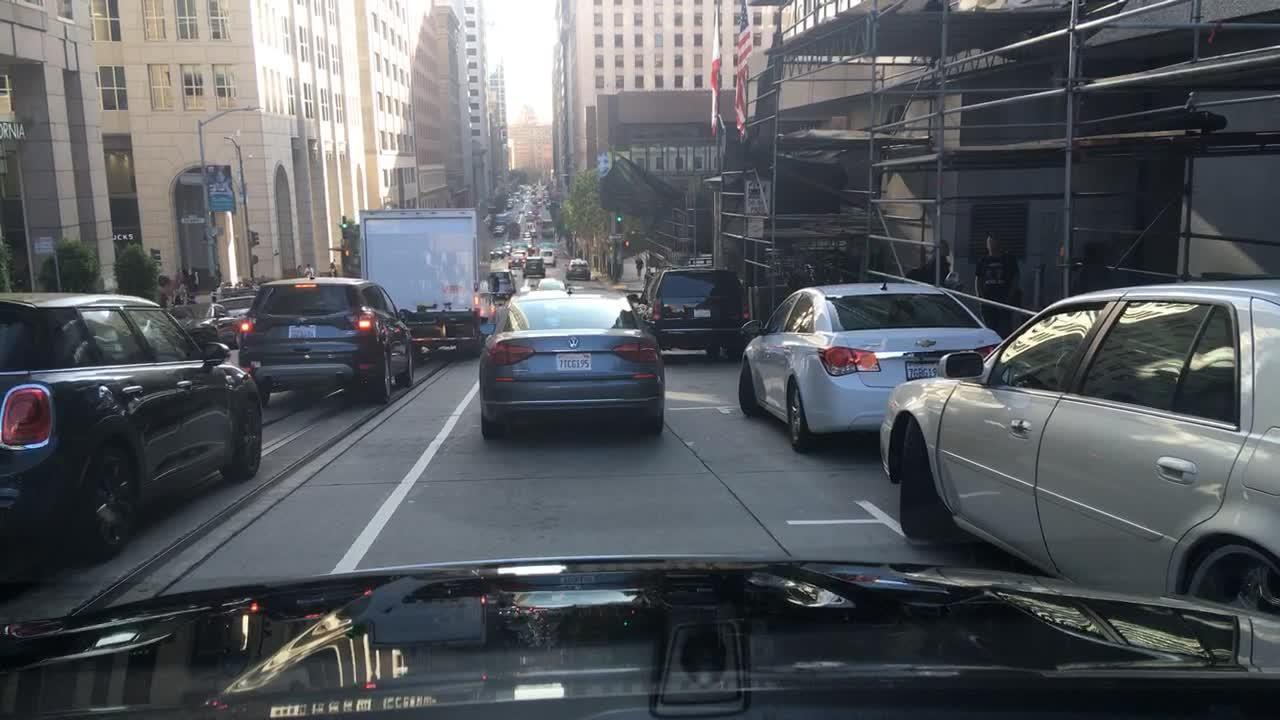Volkswagen: (560, 335, 586, 354)
